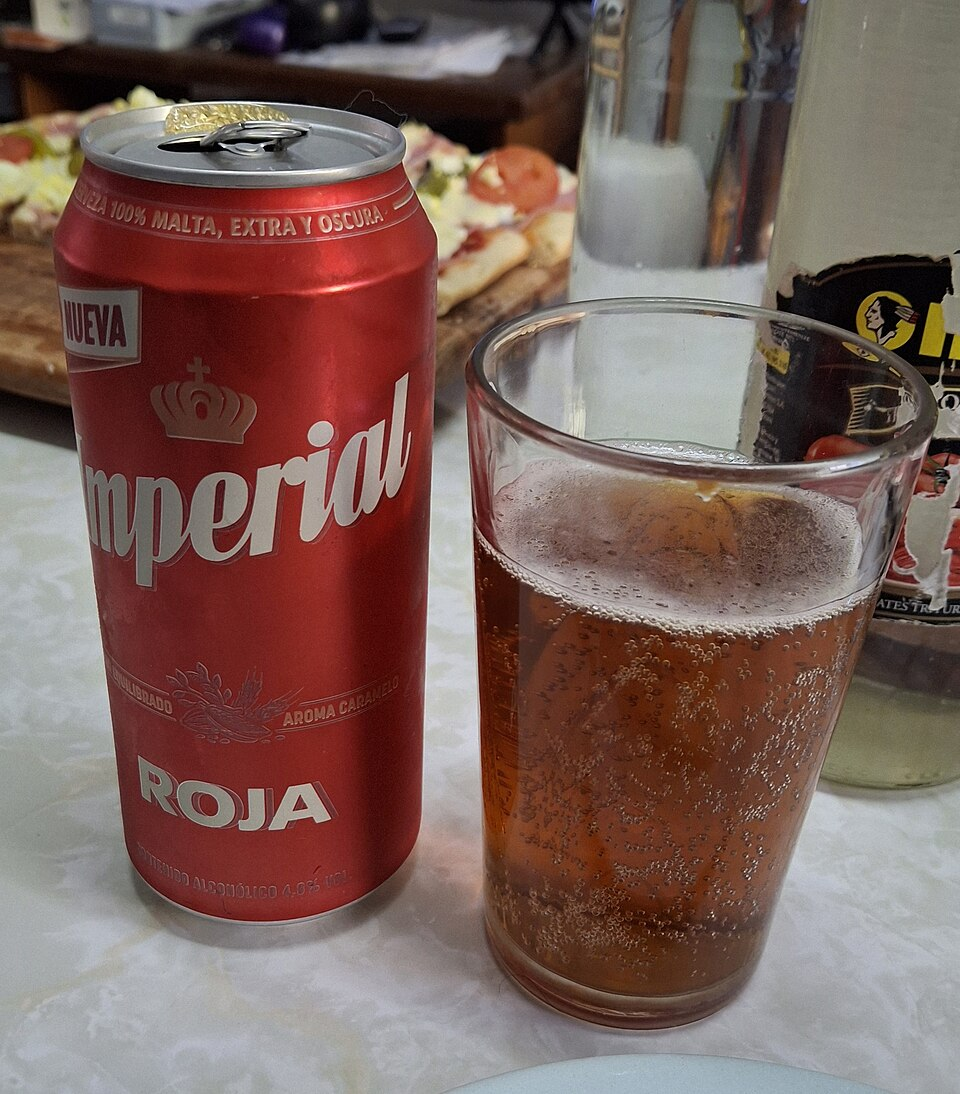beer-can: (45, 90, 449, 975)
